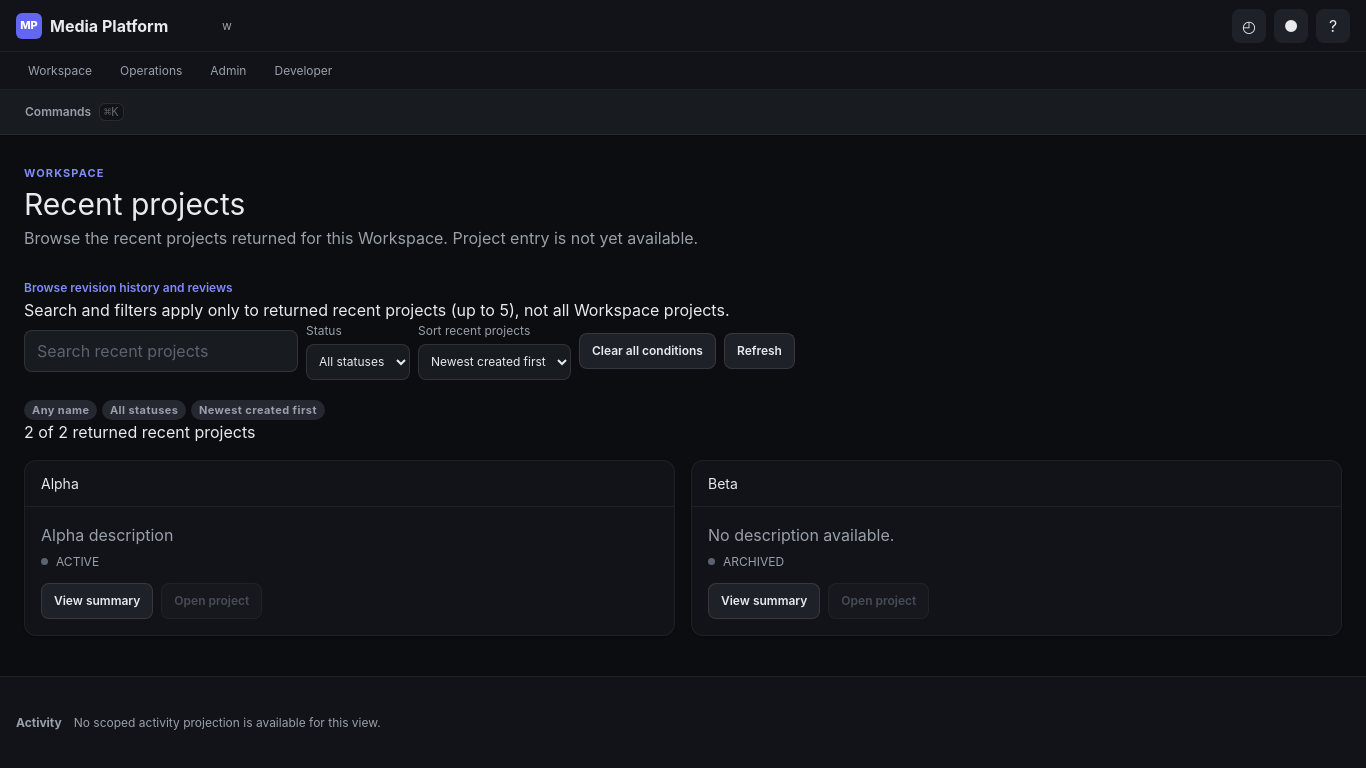
authenticated recent project browsing route › composes filters, distinguishes no matches, and clears active conditions
The image size is (1366, 768).
Expected: the button with aria-label "Summary: Alpha" is shown, top-left (41, 583), bottom-right (153, 619)
Type "beta" into the search field at (161, 350), box top-left (24, 330), bottom-right (298, 372)
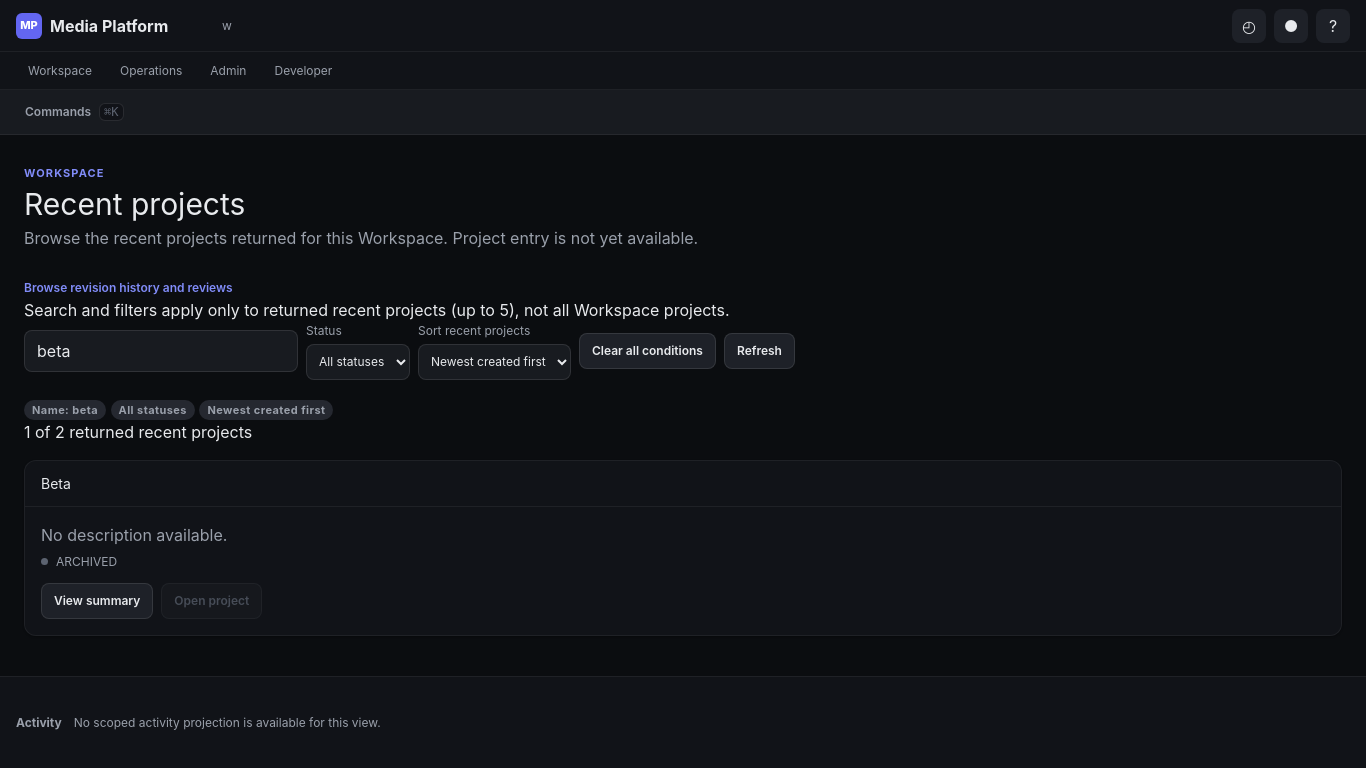
Select "ACTIVE" in the dropdown labelled "Status" at (358, 362), box top-left (306, 344), bottom-right (410, 380)
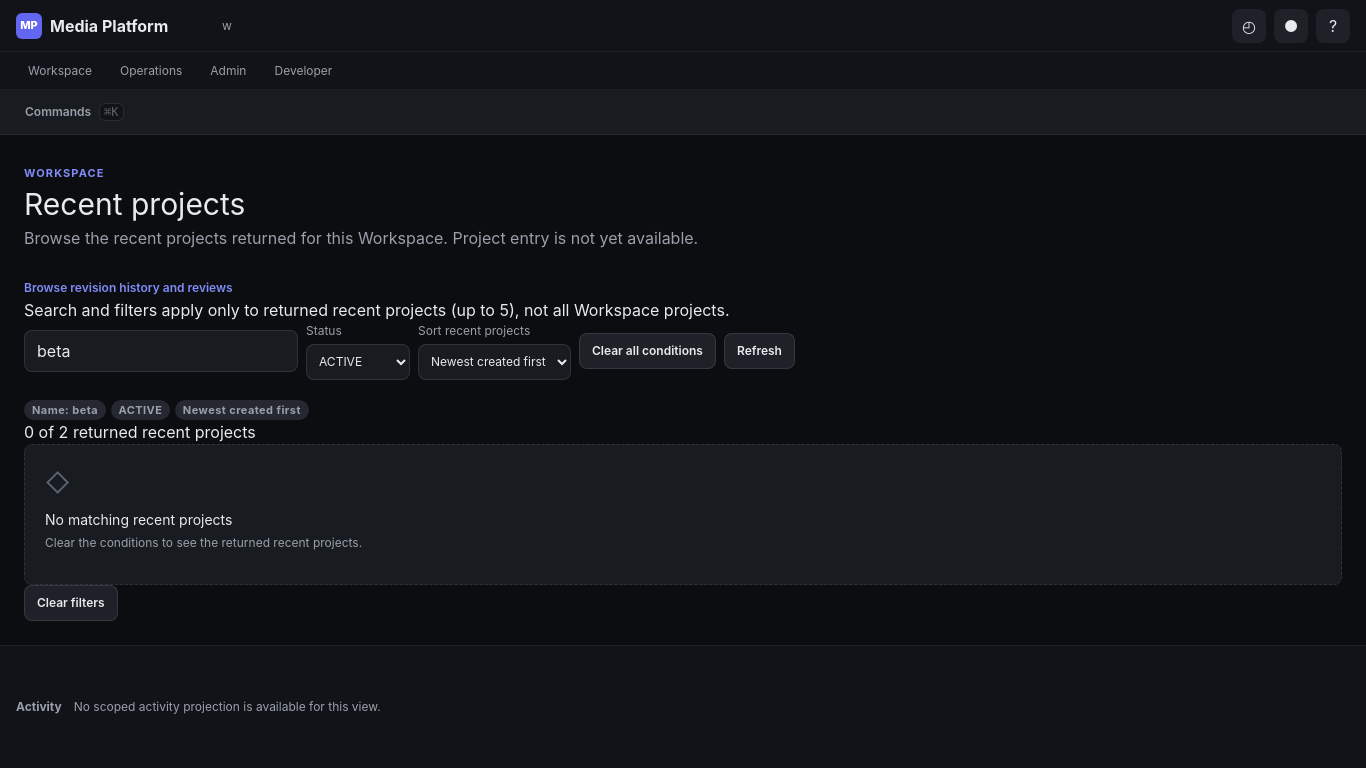
Now the heading "No matching recent projects" is shown, box top-left (45, 509), bottom-right (232, 530)
Click the button "Clear filters" at (71, 603), box top-left (24, 585), bottom-right (118, 621)
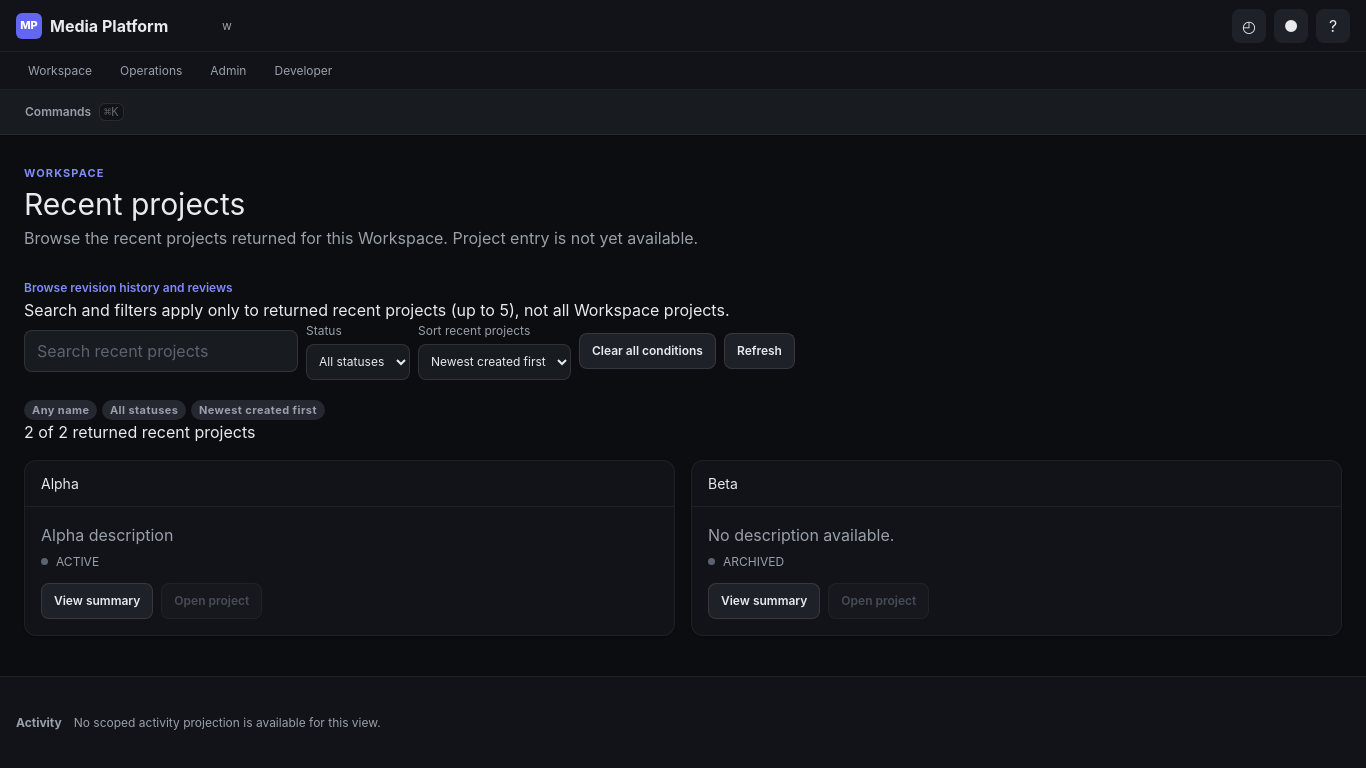
Now the number of buttons named "Summary:" is 2, box top-left (41, 583), bottom-right (153, 619); top-left (708, 583), bottom-right (820, 619)
